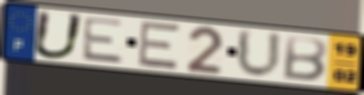2: (187, 24, 226, 77)
B: (280, 34, 330, 83)
E: (136, 20, 183, 71), (81, 16, 127, 66)
U: (29, 8, 87, 61), (234, 27, 284, 81)
